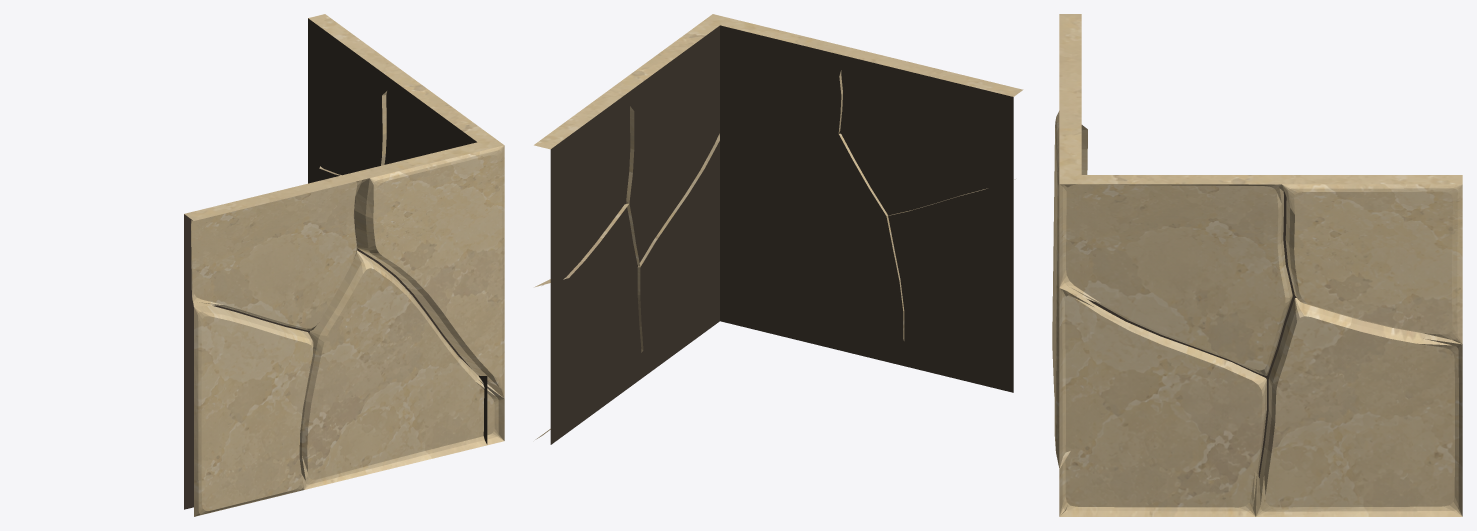
Rendered from ground_corner_07.glb.
The picture shows the model from 3 angles, left to right: view 1: azimuth 30°, elevation 25°; view 2: azimuth 150°, elevation 25°; view 3: azimuth 270°, elevation 25°; orthographic projection. The views are drawn at different scales.
Parts seen in each view (by area): view 1: GroundCorner07_Body; view 2: GroundCorner07_Body; view 3: GroundCorner07_Body.
Boxes of the visible parts, box(x1,y1,x2,y2) form: GroundCorner07_Body: box(184, 14, 504, 516); GroundCorner07_Body: box(534, 14, 1023, 444); GroundCorner07_Body: box(1052, 14, 1462, 516).
Size of the model in its own units: 1.01 by 0.91 by 1.02.
10 materials, 9 textured.
